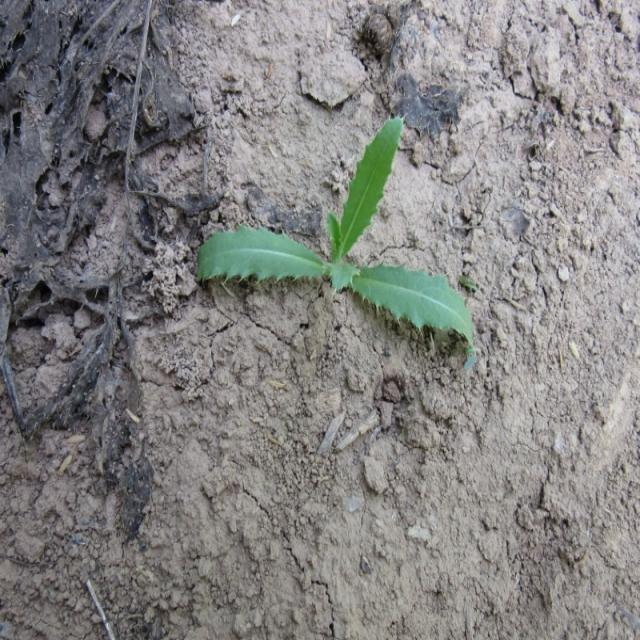cs: (191, 105, 480, 361)
